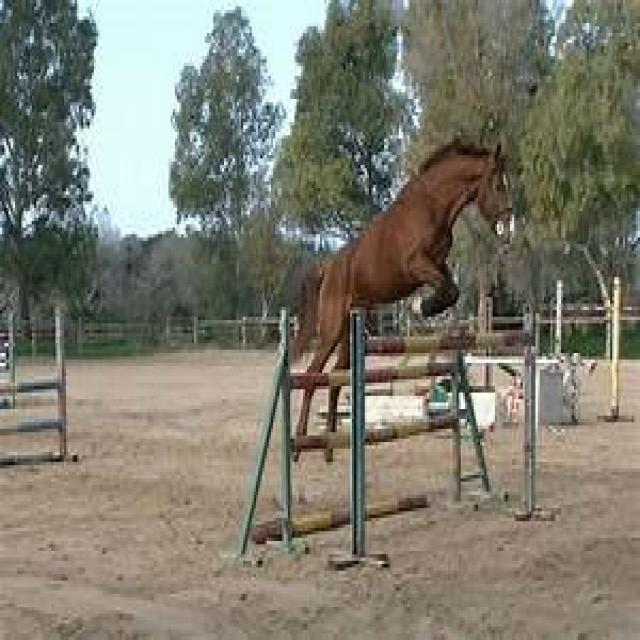horse: (292, 145, 512, 389)
